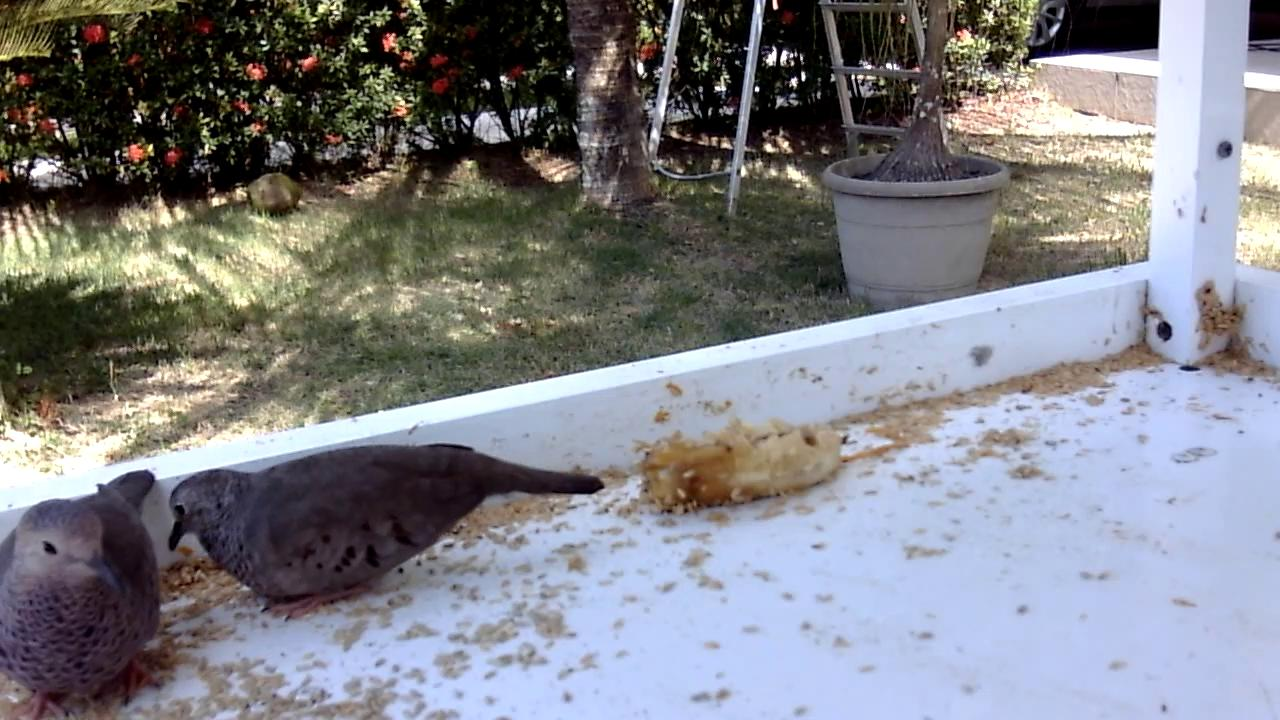rolinha: (167, 434, 611, 627), (1, 469, 164, 720)
